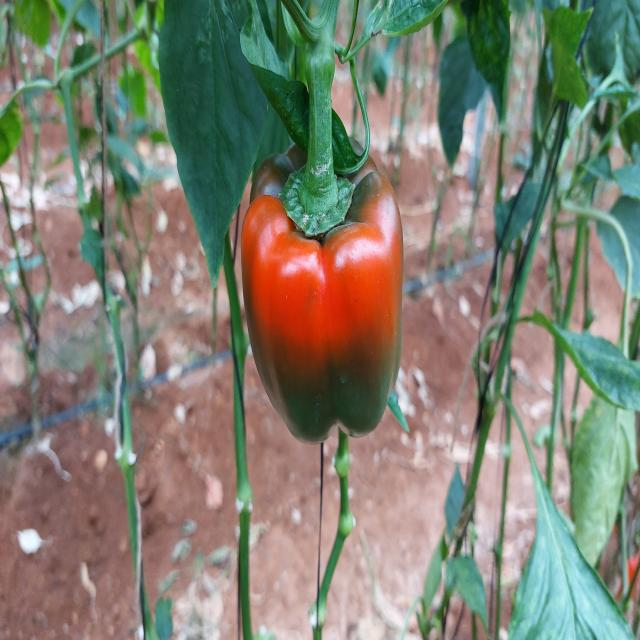Red-Ready-to-Harvest: (235, 150, 412, 447)
